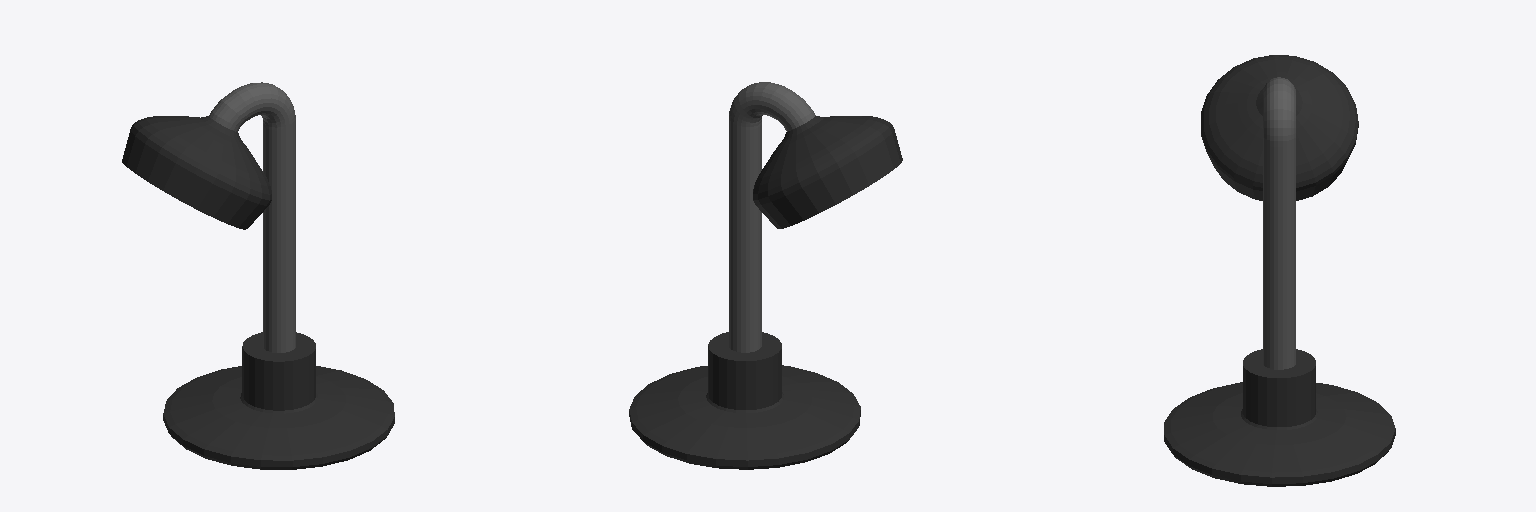
File: lamp.obj
3 views of the same model, side by side, from view 1: azimuth 30°, elevation 25°; view 2: azimuth 150°, elevation 25°; view 3: azimuth 270°, elevation 25° (orthographic).
Visible parts, largest first — view 1: lamp4; view 2: lamp4; view 3: lamp4.
Boxes of the visible parts, <box> form: lamp4: <box>122,82,394,469</box>; lamp4: <box>629,82,902,469</box>; lamp4: <box>1164,55,1395,486</box>.
Bounding box in the file's own units: 63.05 × 84.05 × 51.13.